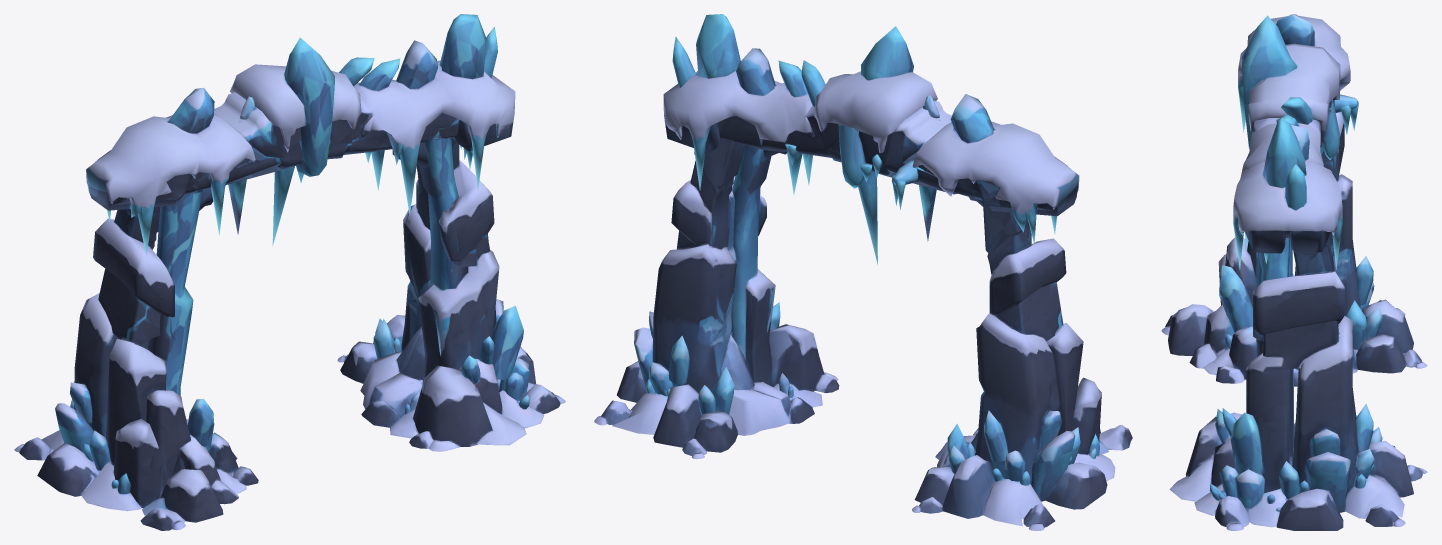
Rendered from ice+arch+3d+model.fbx.
3 views of the same model, side by side, from view 1: azimuth 30°, elevation 25°; view 2: azimuth 150°, elevation 25°; view 3: azimuth 270°, elevation 25° (orthographic). The views are drawn at different scales.
Parts seen in each view (by area): view 1: f924a842_28b3_402b_a810_5d911a9f3f50; view 2: f924a842_28b3_402b_a810_5d911a9f3f50; view 3: f924a842_28b3_402b_a810_5d911a9f3f50.
Boxes of the visible parts, left/top/right/bottom form: f924a842_28b3_402b_a810_5d911a9f3f50: left=14, top=14, right=565, bottom=530; f924a842_28b3_402b_a810_5d911a9f3f50: left=594, top=14, right=1132, bottom=530; f924a842_28b3_402b_a810_5d911a9f3f50: left=1161, top=14, right=1427, bottom=530.
Bounding box in the file's own units: 0.9995 × 0.8296 × 0.4995.
Materials: 1 (1 with a texture image).
